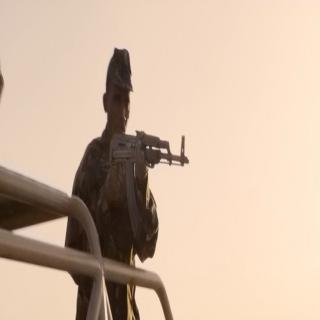gun: (105, 124, 191, 245)
